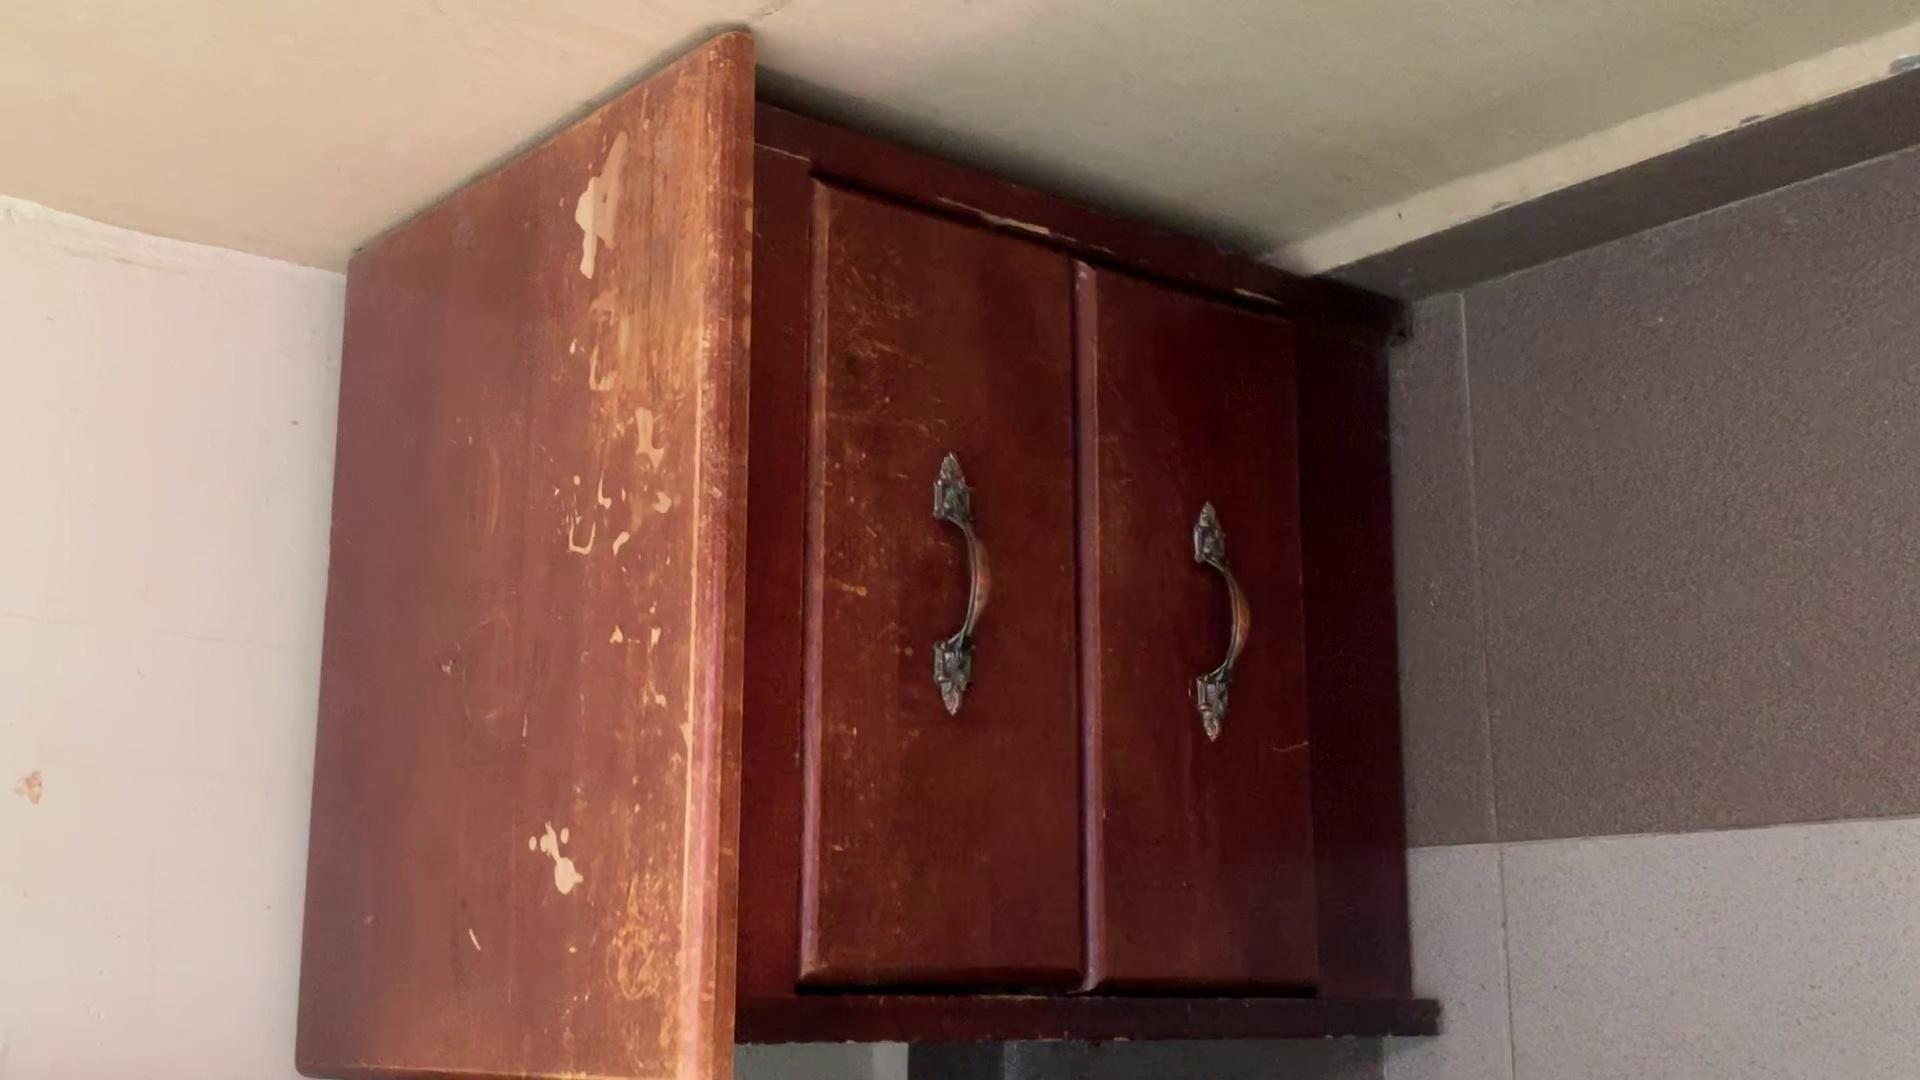cabinet_door: (786, 227, 1065, 1013), (1095, 316, 1316, 998)
handle: (918, 440, 1004, 721), (1180, 491, 1261, 753)
